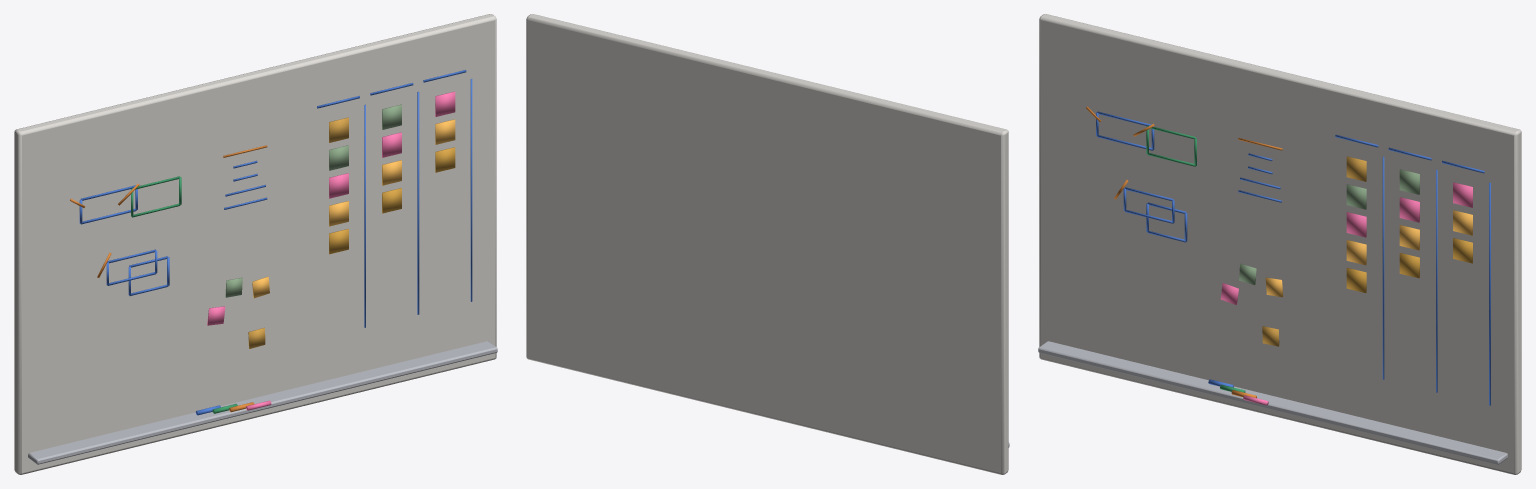
File: whiteboard_wall_l3.glb
3 views of the same model, side by side, from view 1: azimuth 30°, elevation 25°; view 2: azimuth 150°, elevation 25°; view 3: azimuth 330°, elevation 25° (orthographic).
Visible parts, largest first — view 1: whiteboard_wall_l3; view 2: whiteboard_wall_l3; view 3: whiteboard_wall_l3.
Boxes of the visible parts, bbox=[...] form: whiteboard_wall_l3: bbox=[14, 14, 497, 474]; whiteboard_wall_l3: bbox=[526, 14, 1009, 474]; whiteboard_wall_l3: bbox=[1038, 14, 1521, 474].
Bounding box in the file's own units: 2.7 × 1.85 × 0.177.
